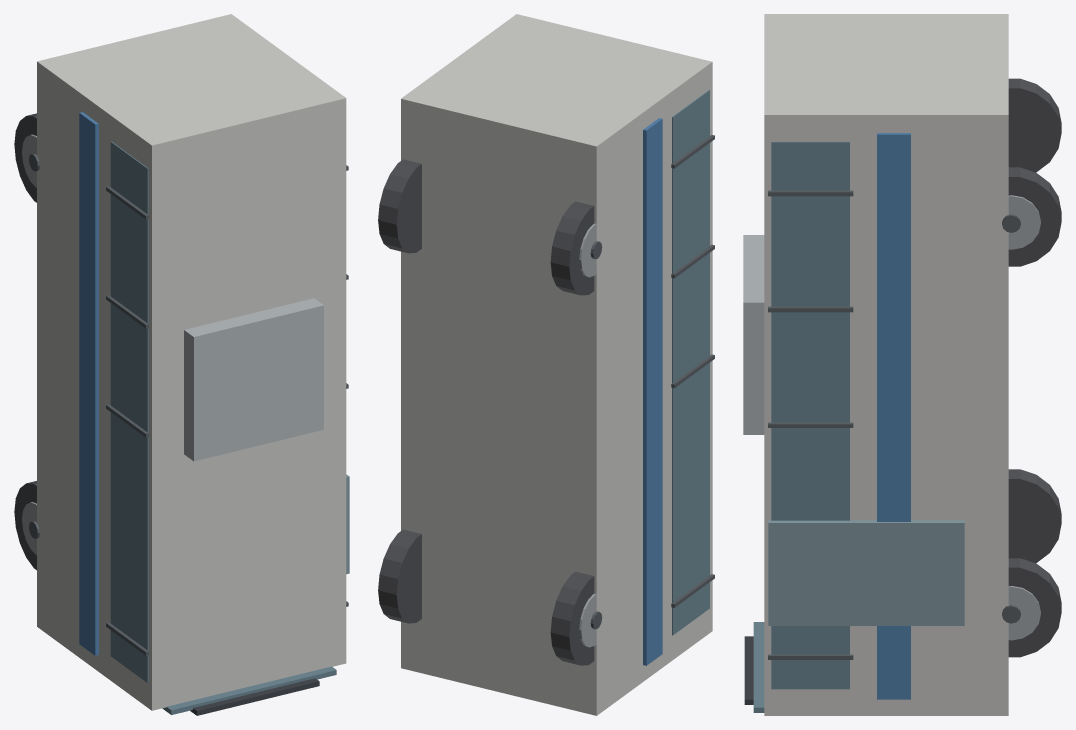
Rendered from electric_minibus.glb.
The picture shows the model from 3 angles, left to right: view 1: azimuth 30°, elevation 25°; view 2: azimuth 150°, elevation 25°; view 3: azimuth 270°, elevation 25°; orthographic projection. The views are drawn at different scales.
Parts seen in each view (by area): view 1: 0000_Bus_body, 0001_Bus_window_band, 0015_Roof_AC, 0002_Transit_blue_livery, 0004_Front_windshield, 0005_Destination_display, 0022_Wheel_tire, 0016_Wheel_tire; view 2: 0000_Bus_body, 0001_Bus_window_band, 0002_Transit_blue_livery, 0019_Wheel_tire, 0025_Wheel_tire, 0016_Wheel_tire, 0022_Wheel_tire, 0017_Wheel_rim, 0023_Wheel_rim; view 3: 0000_Bus_body, 0001_Bus_window_band, 0006_Passenger_doors, 0003_Transit_blue_livery, 0015_Roof_AC, 0016_Wheel_tire, 0022_Wheel_tire, 0025_Wheel_tire, 0019_Wheel_tire, 0026_Wheel_rim, 0020_Wheel_rim, 0004_Front_windshield (+5 smaller).
Boxes of the visible parts, <box> form: 0000_Bus_body: <box>37,14,346,710</box>; 0001_Bus_window_band: <box>110,141,148,682</box>; 0015_Roof_AC: <box>184,298,323,461</box>; 0002_Transit_blue_livery: <box>79,112,98,655</box>; 0004_Front_windshield: <box>162,666,336,714</box>; 0005_Destination_display: <box>190,678,319,715</box>; 0022_Wheel_tire: <box>14,113,36,202</box>; 0016_Wheel_tire: <box>14,481,36,570</box>; 0000_Bus_body: <box>401,14,712,715</box>; 0001_Bus_window_band: <box>672,90,709,635</box>; 0002_Transit_blue_livery: <box>643,118,662,665</box>; 0019_Wheel_tire: <box>378,529,421,623</box>; 0025_Wheel_tire: <box>378,159,421,253</box>; 0016_Wheel_tire: <box>550,571,594,665</box>; 0022_Wheel_tire: <box>550,201,594,295</box>; 0017_Wheel_rim: <box>579,593,596,647</box>; 0023_Wheel_rim: <box>579,223,596,277</box>; 0000_Bus_body: <box>764,14,1008,715</box>; 0001_Bus_window_band: <box>771,142,849,689</box>; 0006_Passenger_doors: <box>768,520,964,625</box>; 0003_Transit_blue_livery: <box>877,133,910,699</box>; 0015_Roof_AC: <box>743,235,764,434</box>; 0016_Wheel_tire: <box>1008,469,1061,563</box>; 0022_Wheel_tire: <box>1008,78,1061,172</box>; 0025_Wheel_tire: <box>1008,167,1061,266</box>; 0019_Wheel_tire: <box>1008,558,1061,657</box>; 0026_Wheel_rim: <box>1008,195,1040,249</box>; 0020_Wheel_rim: <box>1008,586,1040,640</box>; 0004_Front_windshield: <box>753,622,764,712</box>.
Size of the model in its own units: 2.64 by 7.09 by 3.36.
